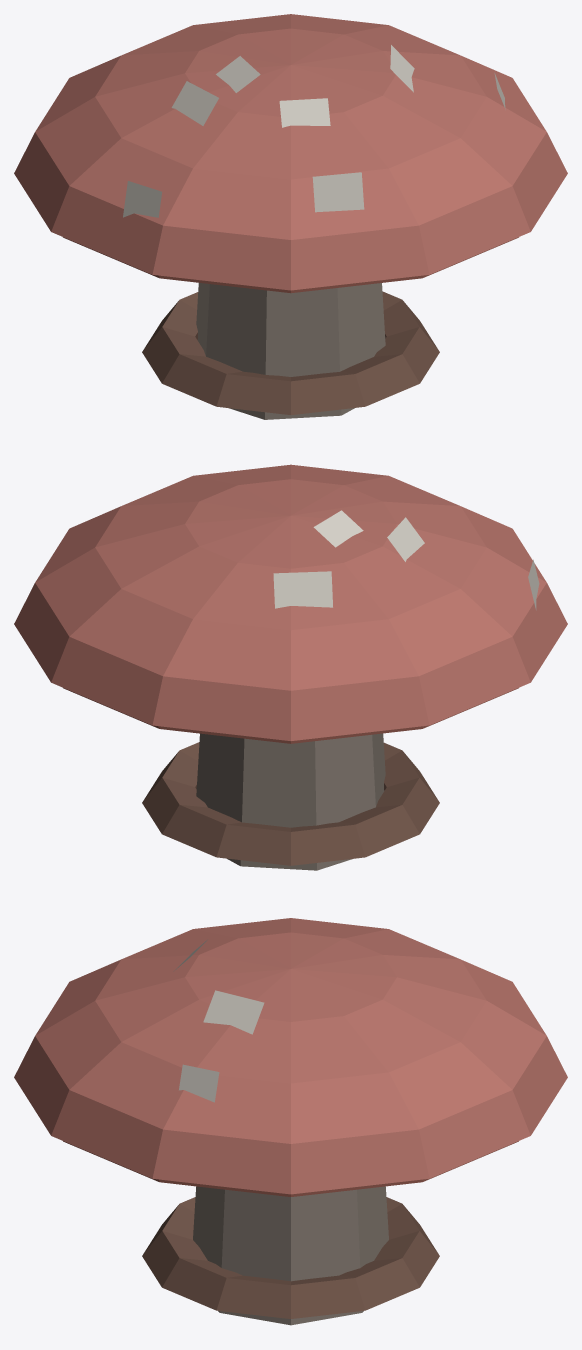
The model's file is toadstool_v1.glb.
3 views of the same model, one above another, from view 1: azimuth 30°, elevation 25°; view 2: azimuth 150°, elevation 25°; view 3: azimuth 270°, elevation 25° (orthographic).
Visible parts, largest first — view 1: world; view 2: world; view 3: world.
Boxes of the visible parts, <box> form: world: <box>14,14,567,419</box>; world: <box>14,464,567,870</box>; world: <box>14,918,567,1325</box>.
Size of the model in its own units: 1 by 0.6424 by 1.
